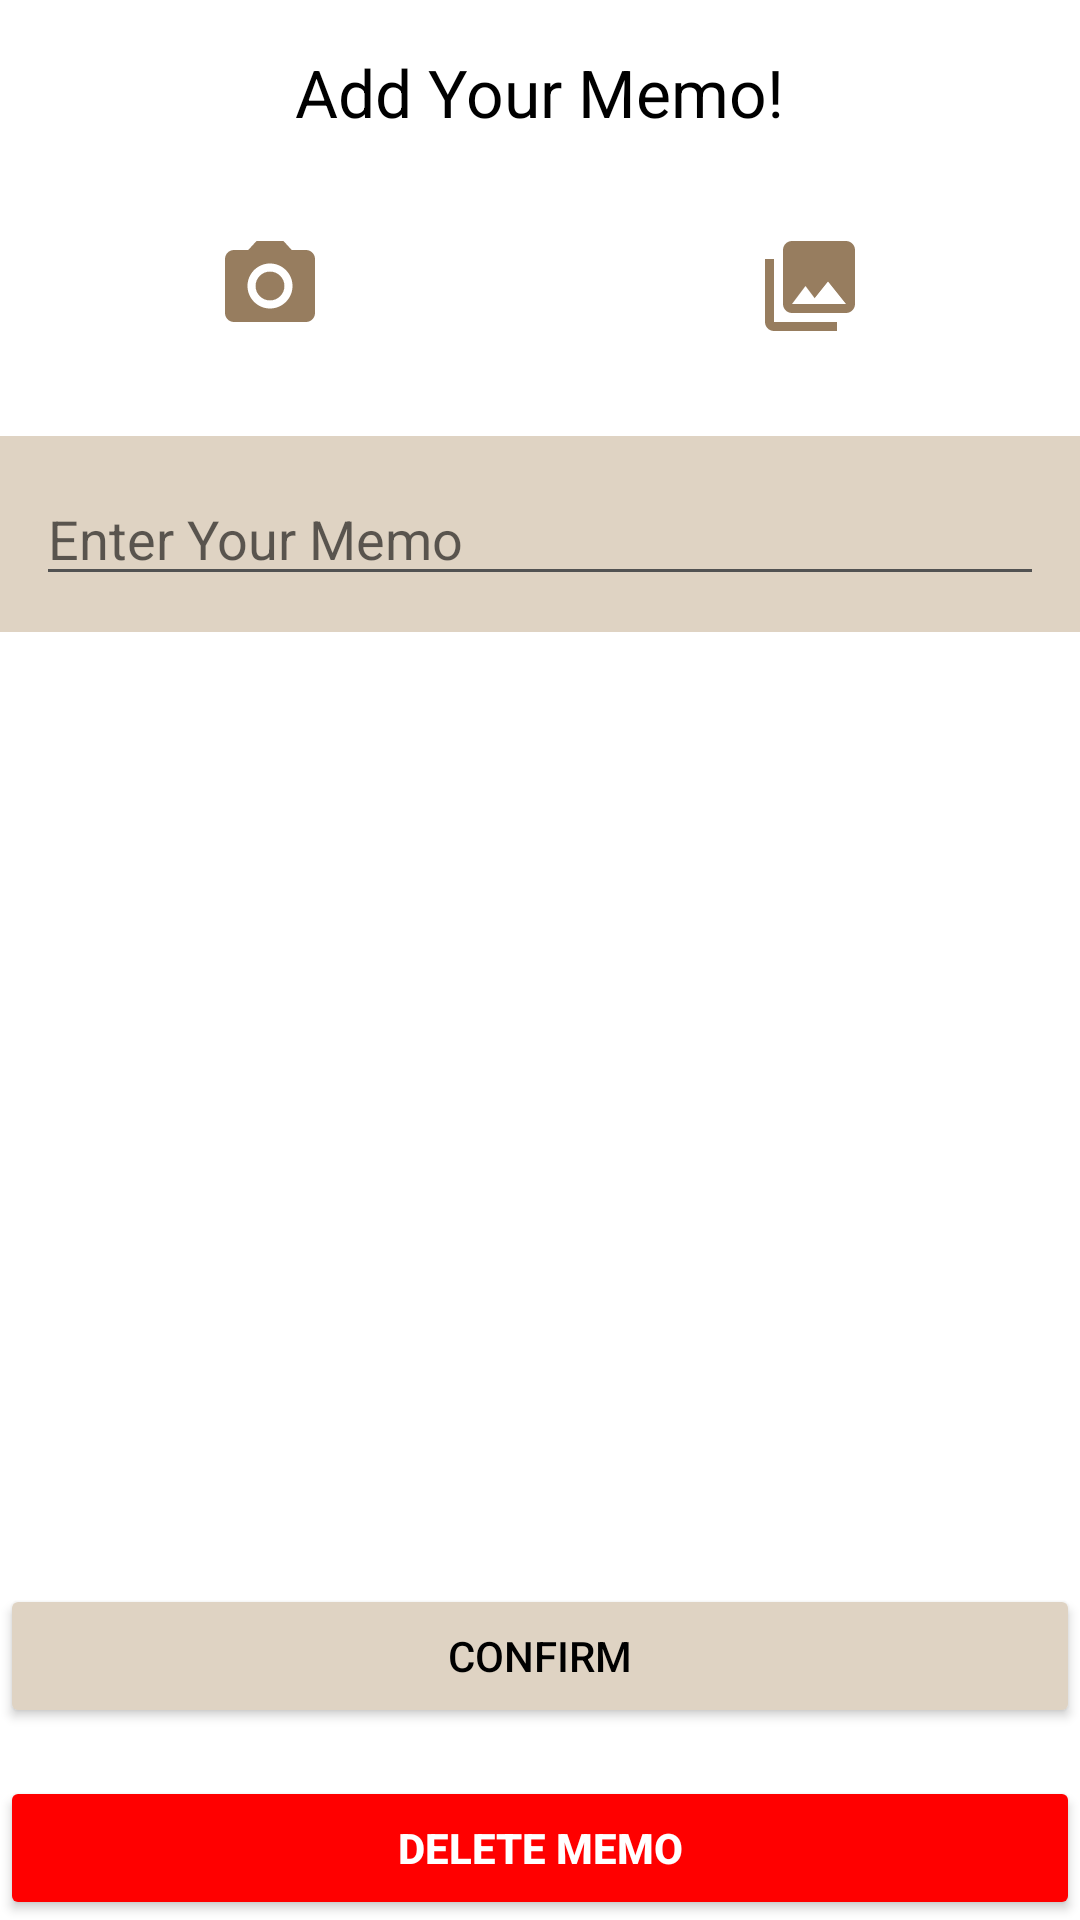

Icons on this 1080px×1920px Android screen, each with its box as (x1, y1, x2, y2):
Camera: (225, 241, 315, 322)
Gallery: (765, 241, 855, 331)
